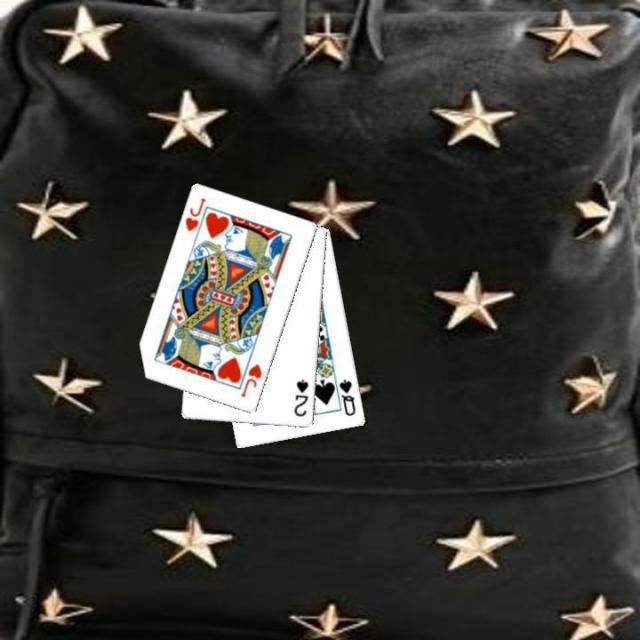2S: (291, 376, 310, 419)
JH: (237, 360, 264, 399), (181, 194, 208, 233)
QS: (336, 375, 358, 418)
